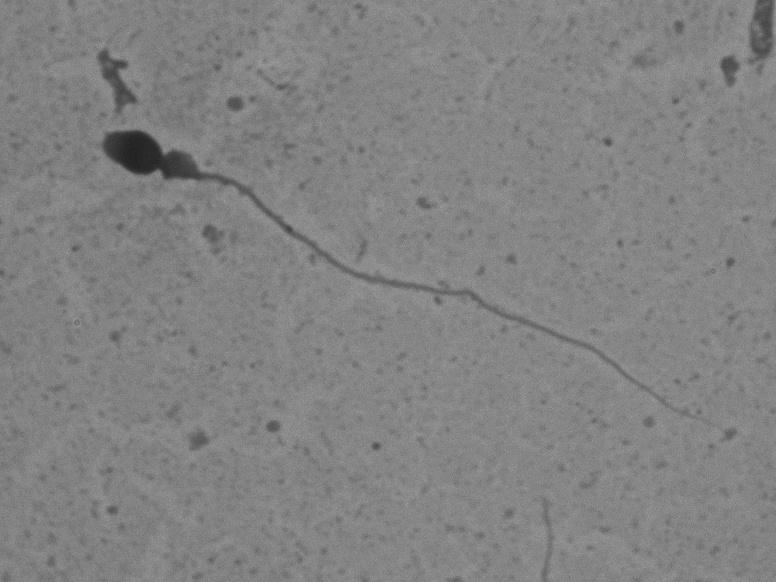Abnormal: (79, 112, 740, 460)
